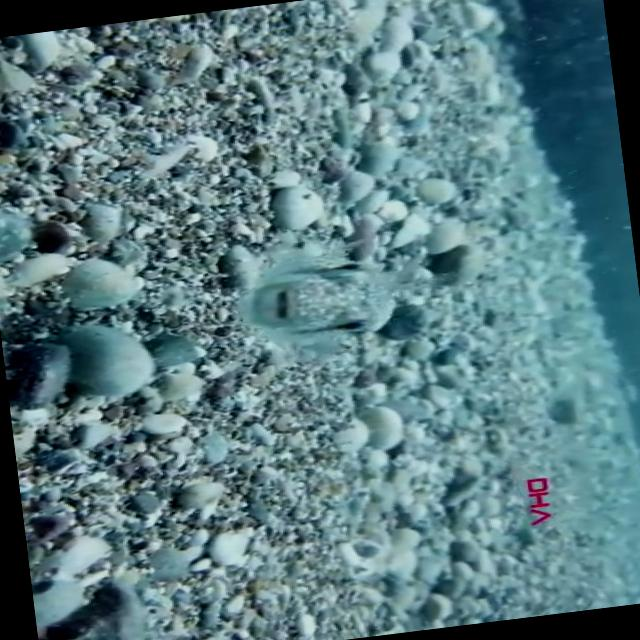Balon Baligi: (234, 232, 451, 368)
